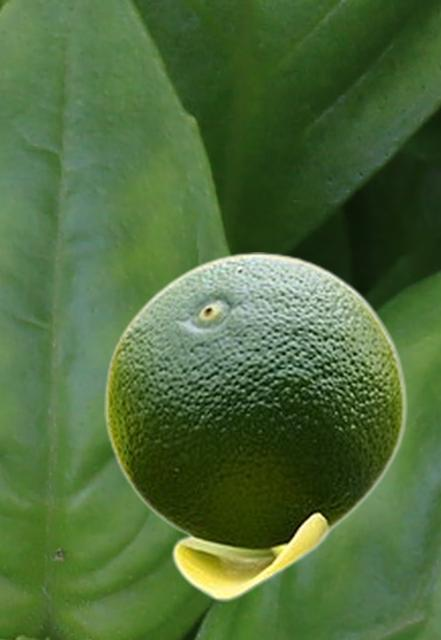calamansi: (104, 252, 406, 600)
